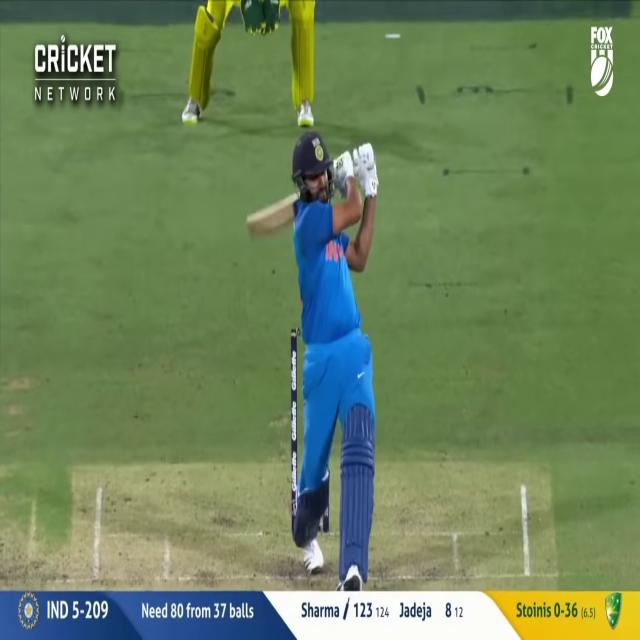stump: (291, 328, 302, 536), (324, 510, 331, 535)
